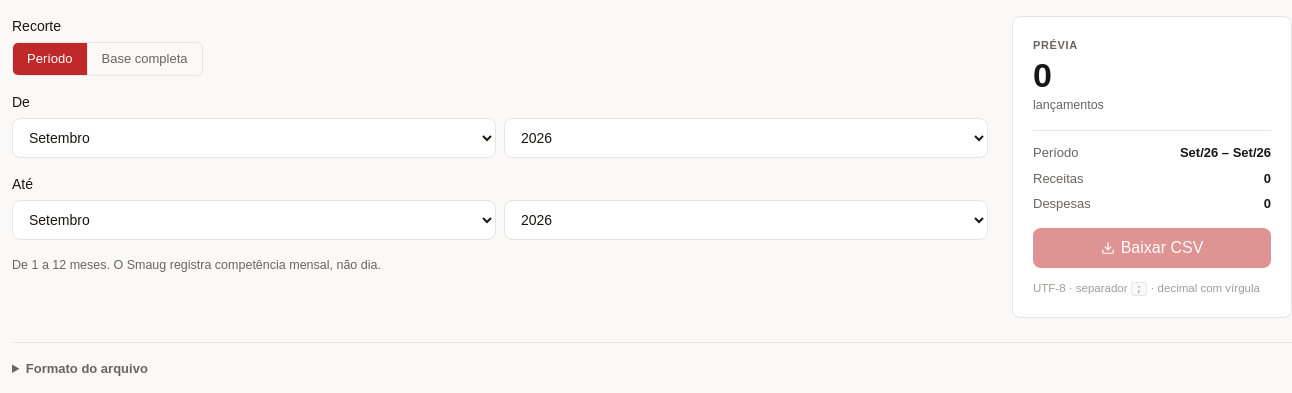
Test case: ExportPanel › mostra um traço enquanto a base completa não respondeu
What coordinates should you click on to do the following:
click the radio button labelled "Base completa"
I would click on:
 (144, 59)
Its box is [86,43,202,74].
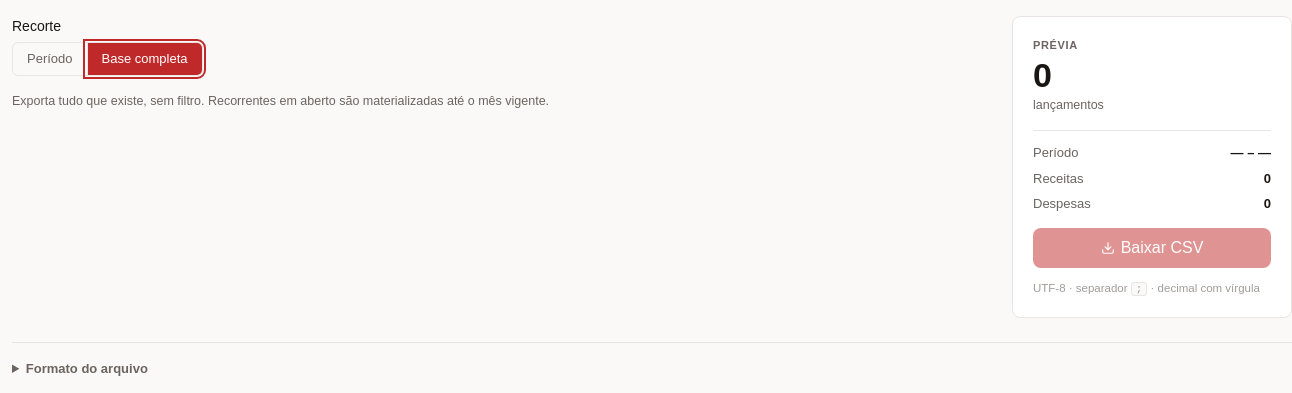
Expected: the text "— – —" is shown, [1230,143,1271,163]
